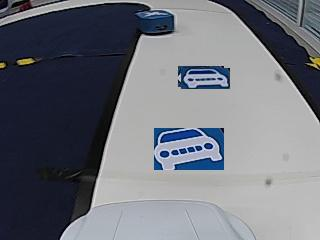prop: (136, 11, 174, 35)
